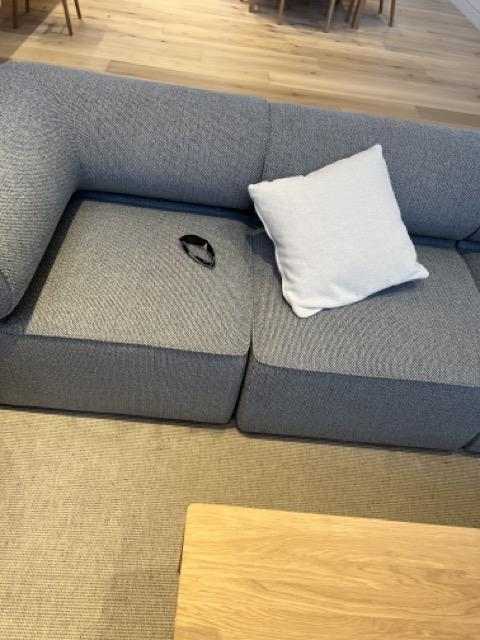Sunglasses: (177, 232, 217, 271)
